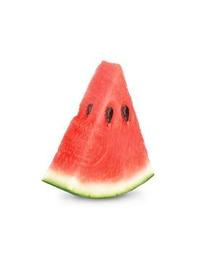watermelon: (42, 60, 156, 199)
